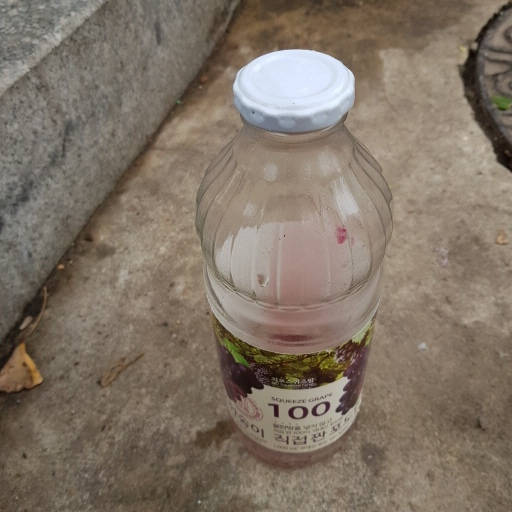Glass_4: (194, 47, 391, 466)
